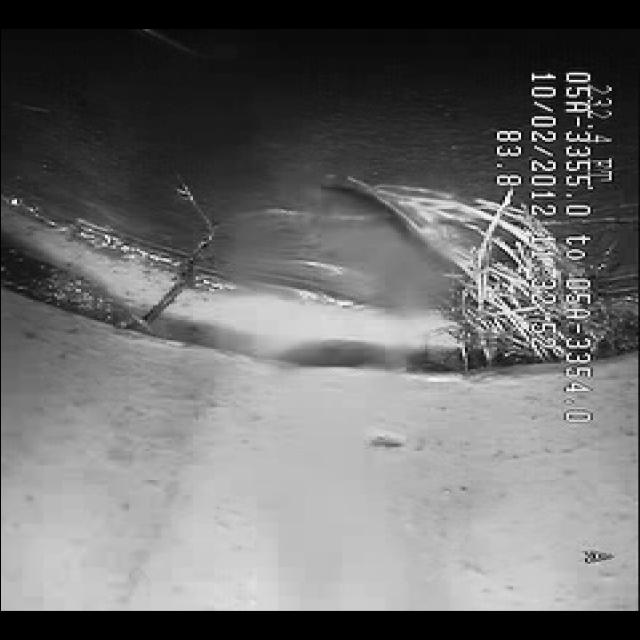Crack: (117, 180, 285, 342)
